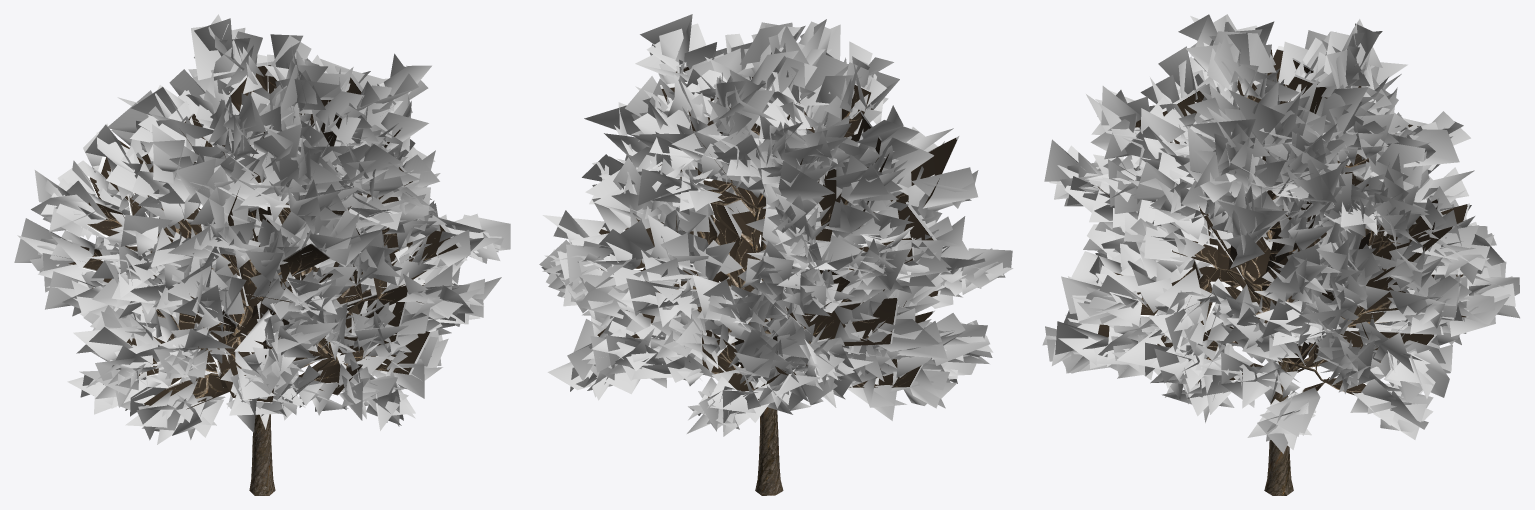
The model's file is TreeNew.fbx.
3 renders of one model, left to right at view 1: azimuth 30°, elevation 25°; view 2: azimuth 150°, elevation 25°; view 3: azimuth 270°, elevation 25°, orthographic. The views are drawn at different scales.
Visible parts, largest first — view 1: Leaves.001, Trunk.001; view 2: Leaves.001, Trunk.001; view 3: Leaves.001, Trunk.001.
Boxes of the visible parts, left/top/right/bottom form: Leaves.001: left=14, top=14, right=510, bottom=444; Trunk.001: left=207, top=212, right=396, bottom=495; Leaves.001: left=539, top=14, right=1013, bottom=436; Trunk.001: left=726, top=180, right=783, bottom=495; Leaves.001: left=1042, top=14, right=1519, bottom=453; Trunk.001: left=1209, top=233, right=1400, bottom=495.
Size of the model in its own units: 7053 by 7553 by 7008.
